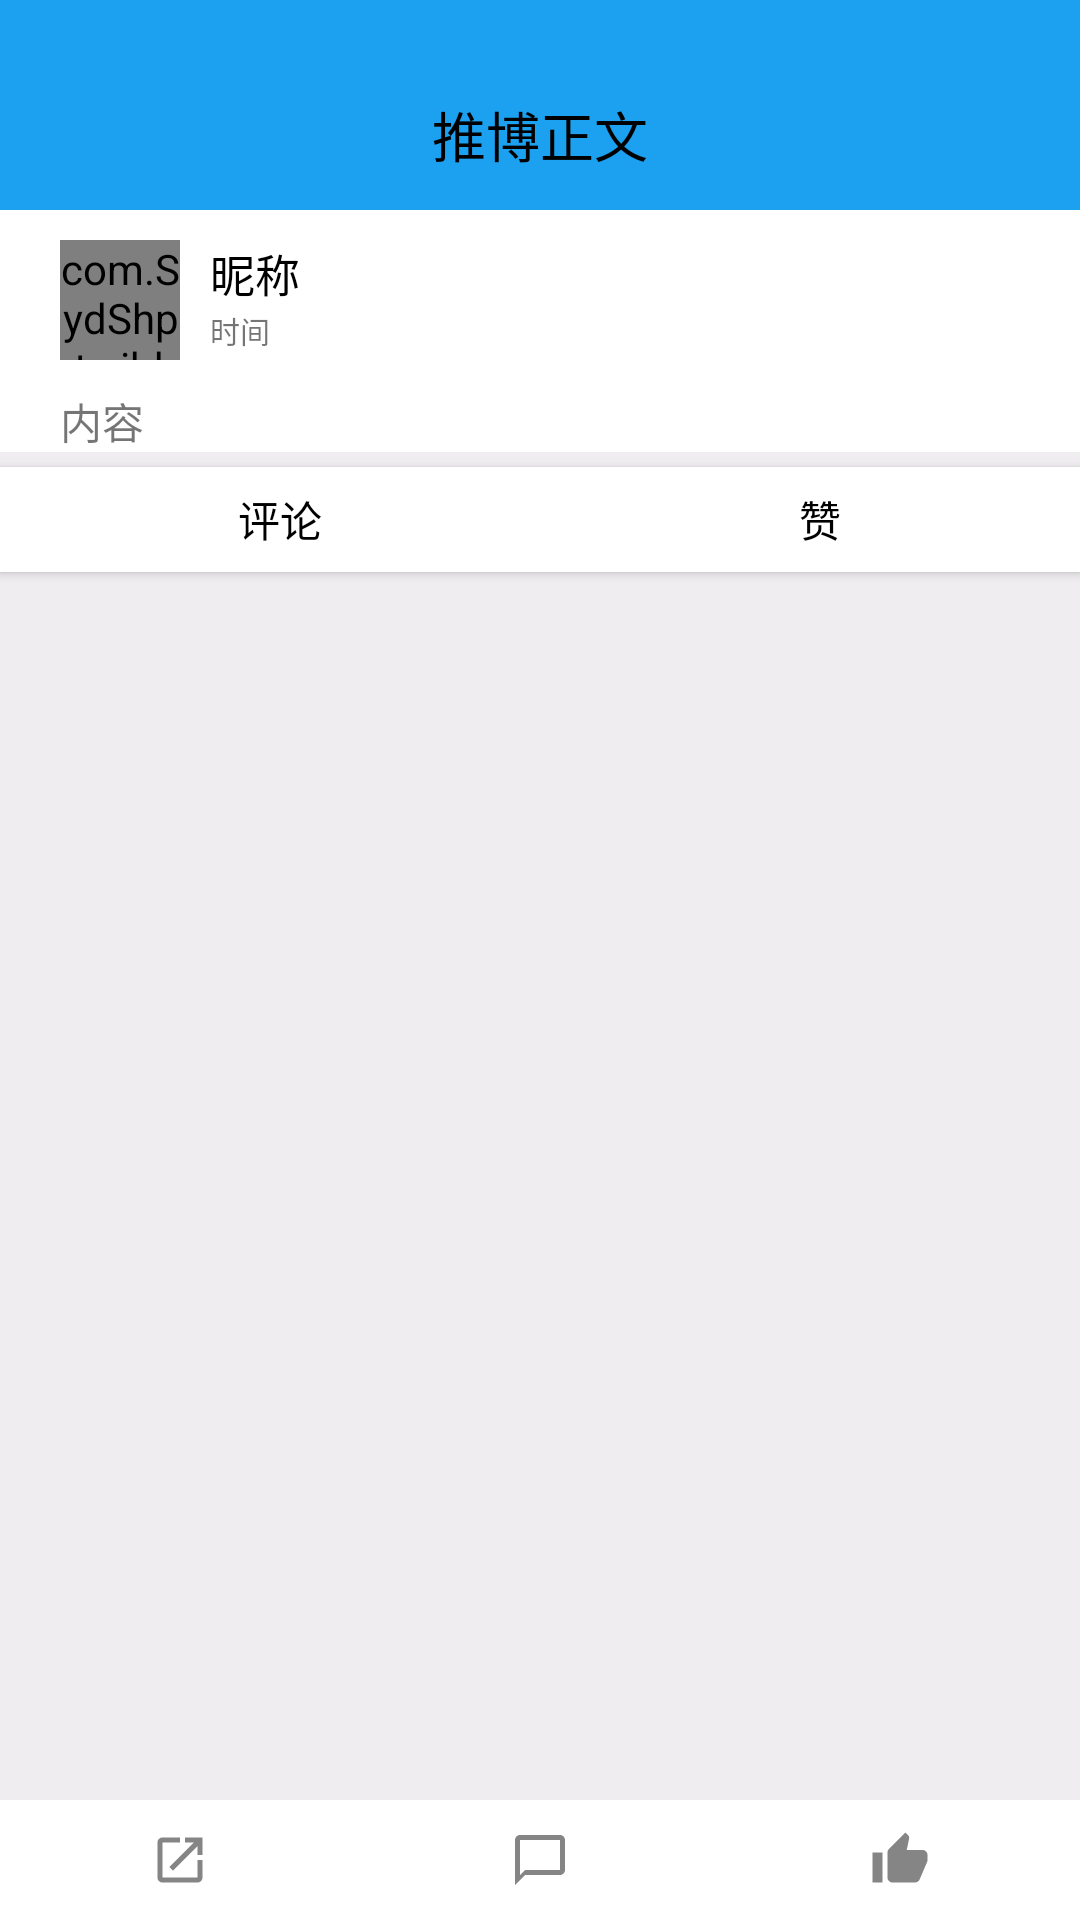

Point at icon controls on the screen. Image size 1080w x 1920h, points as point (x, y).
comment: point (540, 1860)
like: point (900, 1858)
